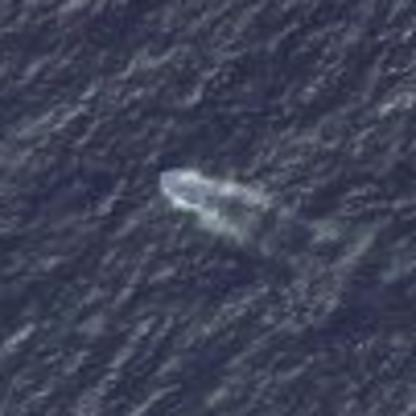ship: (150, 162, 228, 214)
